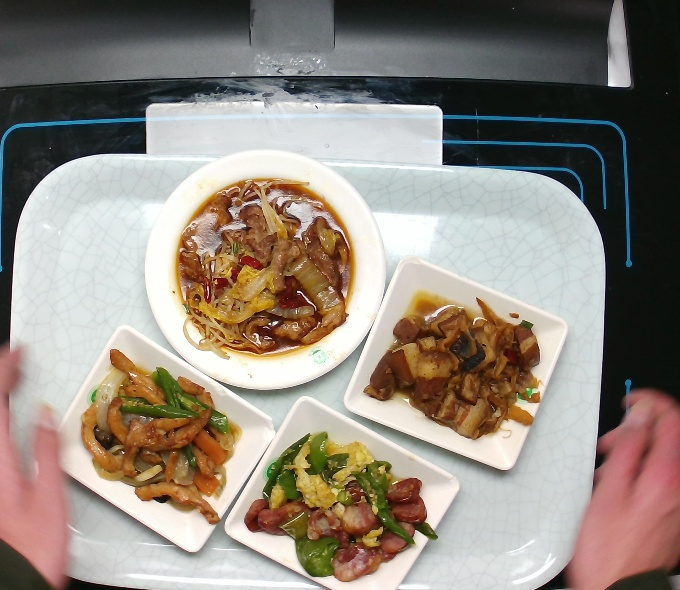wcq-HongShaoRou: (362, 289, 543, 441)
wcq-QingJiaoJiDanChaoDaChang: (242, 432, 439, 583)
wcq-QingJiaoRouSi: (77, 348, 238, 528)
wcq-ShuiZhuRouPian: (174, 174, 356, 357)
